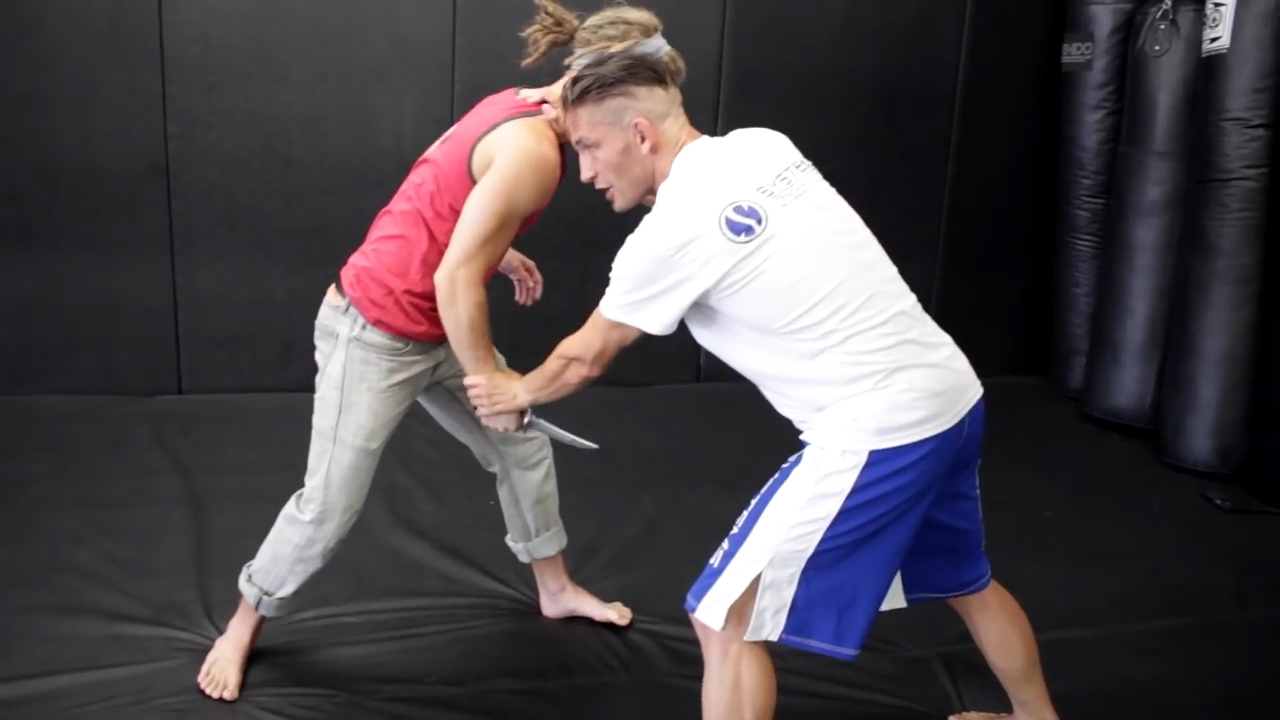knife: (466, 395, 612, 458)
